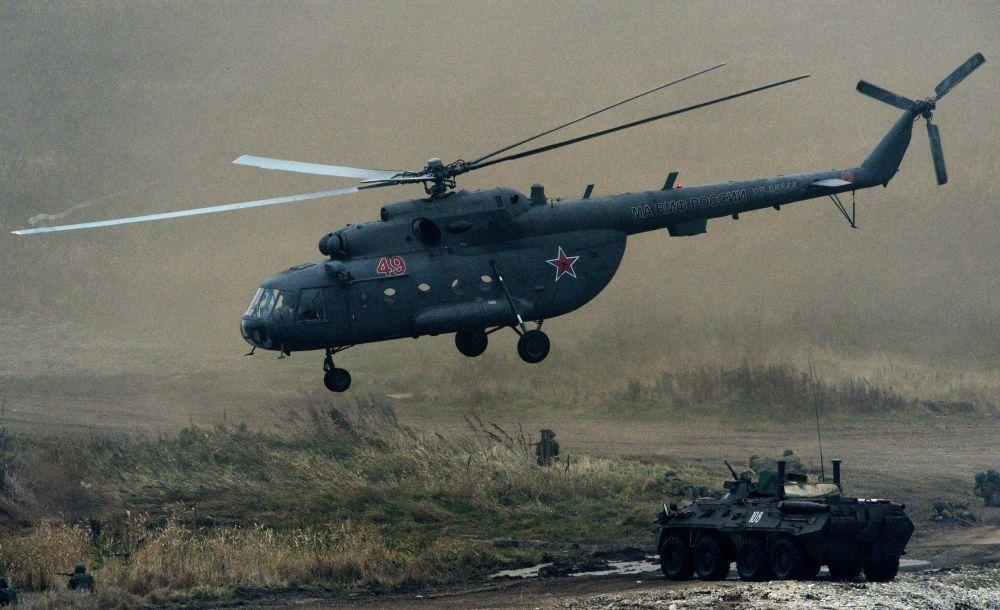airplane: (9, 50, 981, 362)
